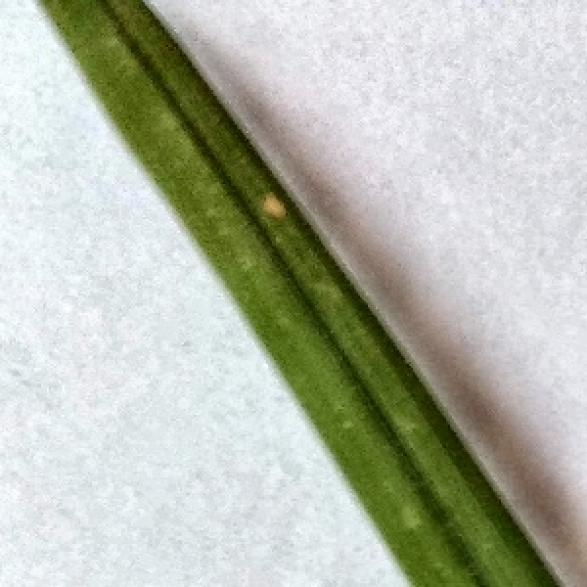Leaf_smut: (227, 180, 295, 237)
